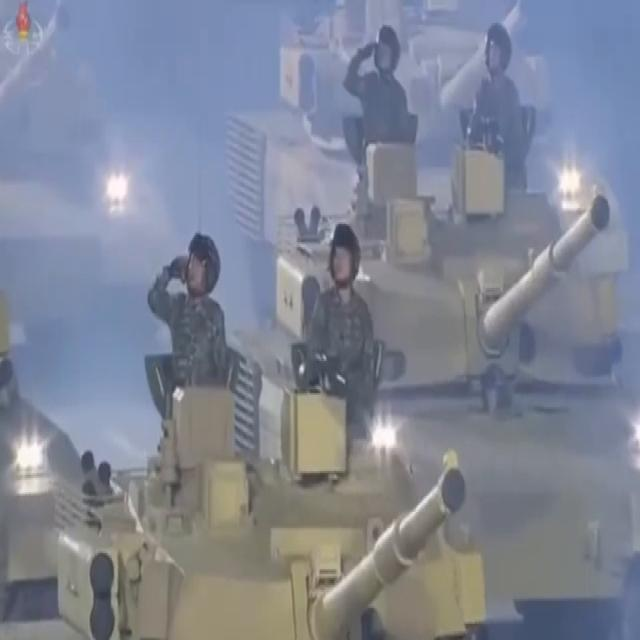north tank: (272, 126, 640, 597), (13, 346, 536, 640)
